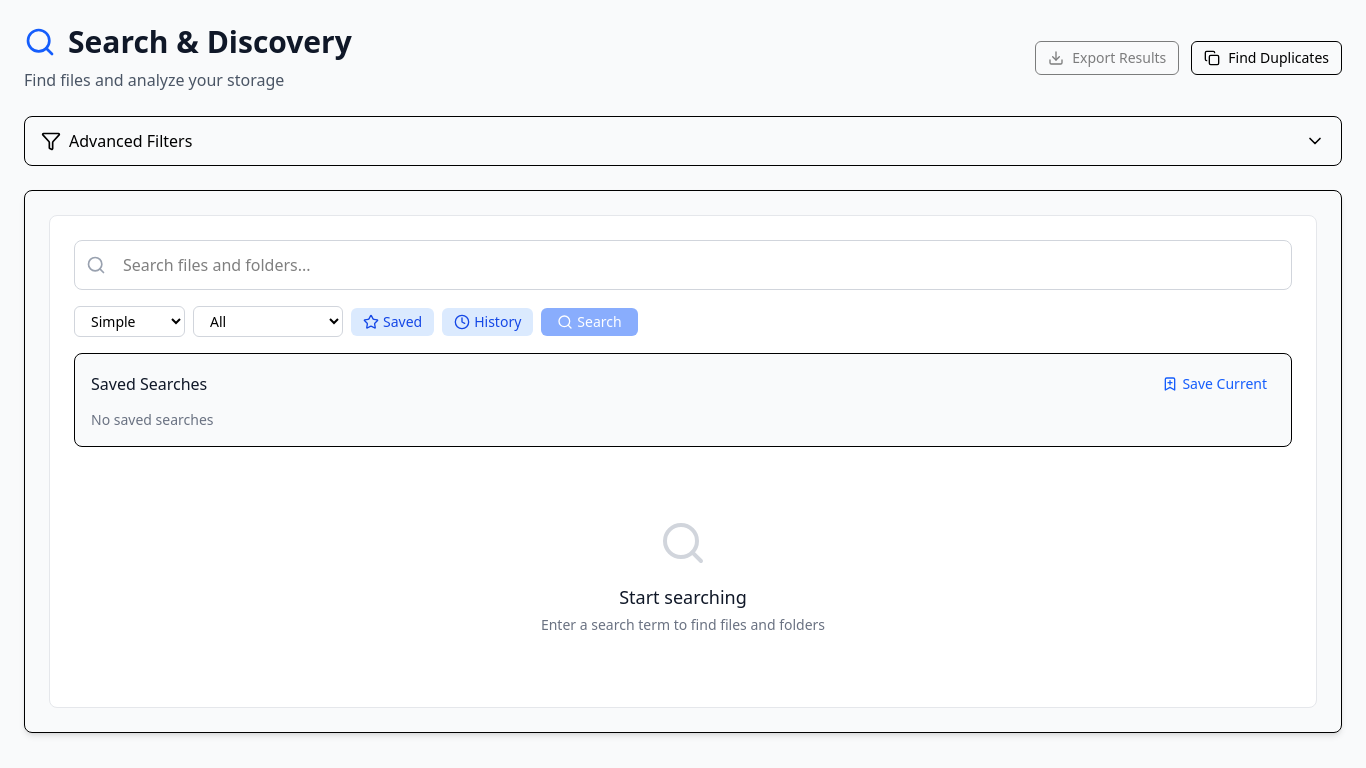
SearchPage › Duplicate Detection Modal › opens duplicate detection modal when Find Duplicates button is clicked
Click the button "Find Duplicates" at [1267, 58], box [1191,41,1342,75]
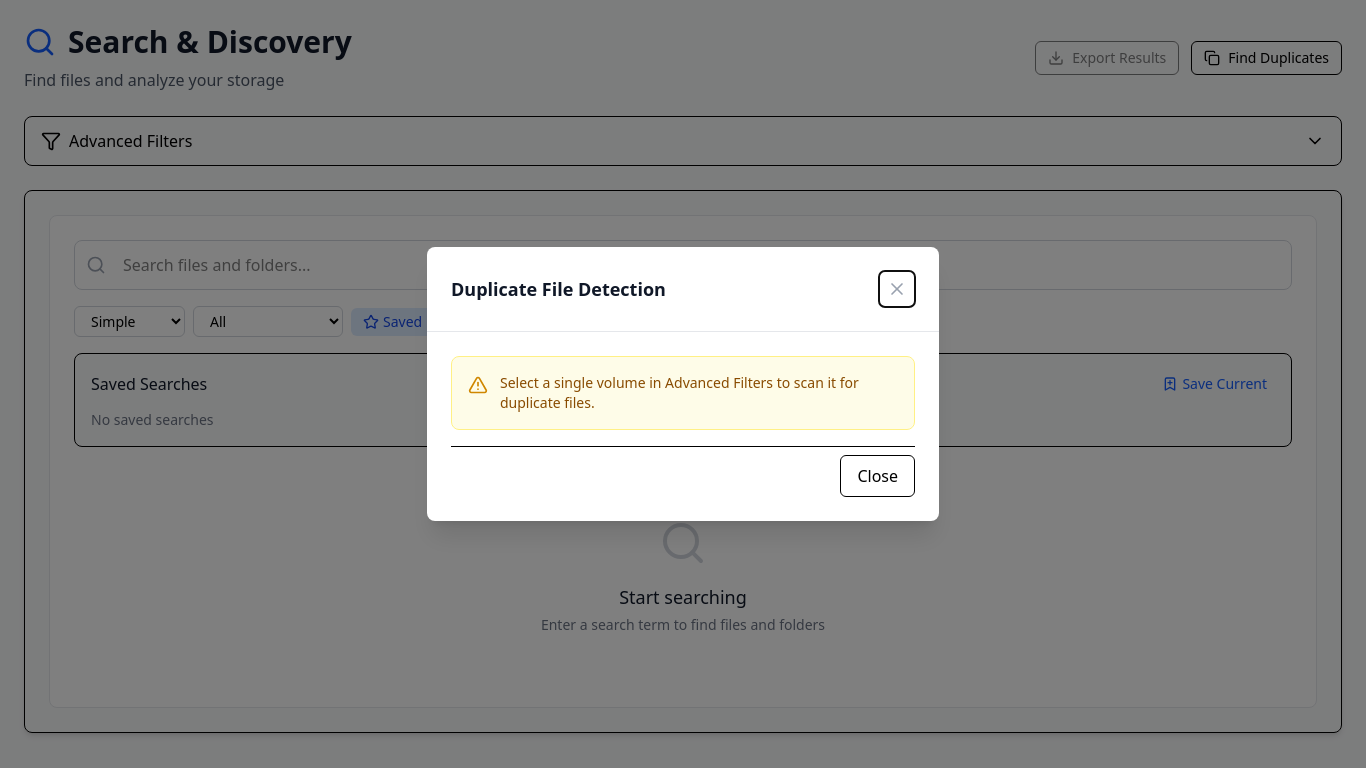
expect the heading "Duplicate File Detection" is shown: met, box [451,277,666,301]
